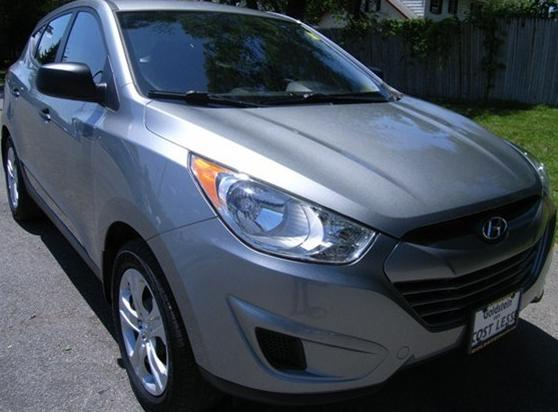front_view: (185, 145, 558, 396)
headlight: (181, 149, 380, 275)
side_glass: (24, 8, 129, 117)
